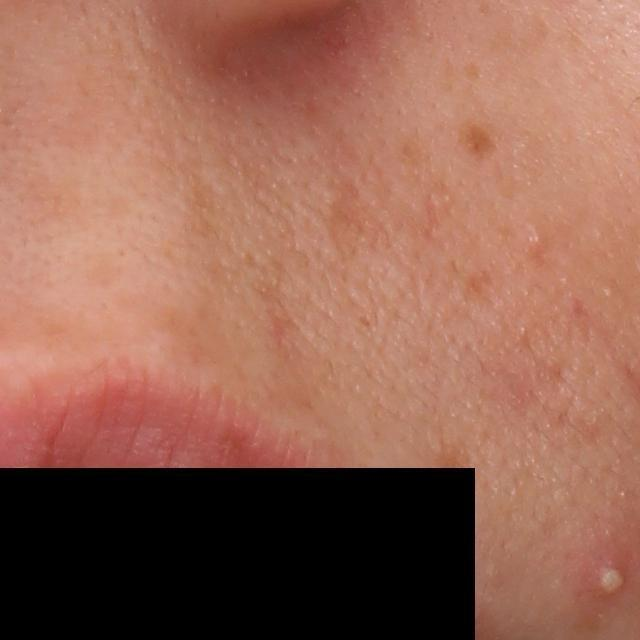comedo: (523, 224, 548, 255)
melasma: (456, 124, 502, 159)
pustule: (589, 547, 637, 600)
